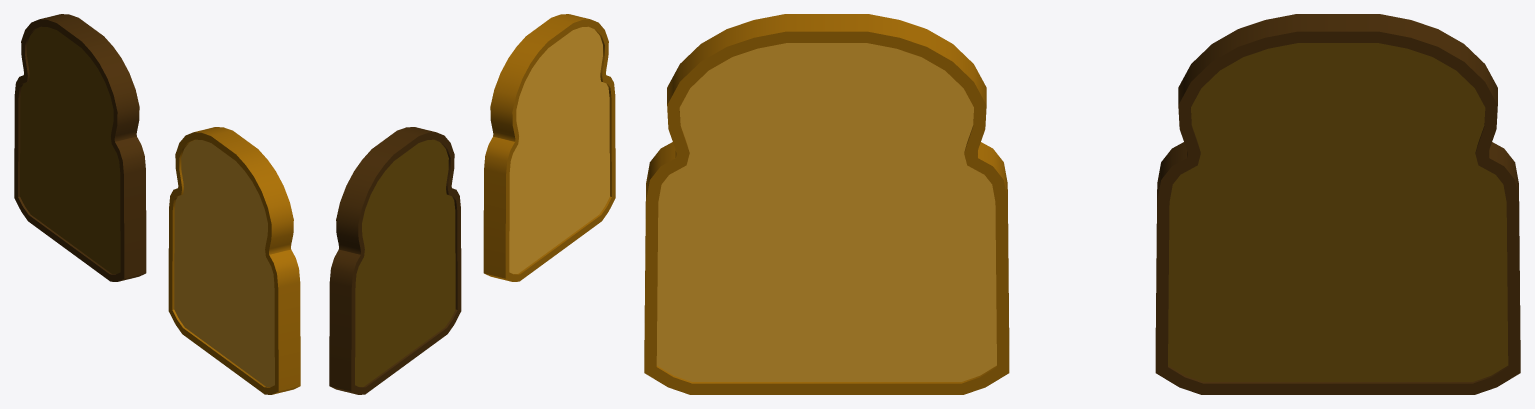
File: Bread.fbx
3 views of the same model, side by side, from view 1: azimuth 30°, elevation 25°; view 2: azimuth 150°, elevation 25°; view 3: azimuth 270°, elevation 25° (orthographic). The views are drawn at different scales.
Parts seen in each view (by area): view 1: Cube.012, Cube.013; view 2: Cube.013, Cube.012; view 3: Cube.012, Cube.013.
Part boxes in pixels (x1,y1,x2,y2): Cube.012: (168, 127, 300, 394); Cube.013: (14, 14, 146, 281); Cube.013: (329, 127, 461, 394); Cube.012: (483, 14, 615, 281); Cube.012: (644, 14, 1009, 394); Cube.013: (1155, 14, 1520, 394).
Size of the model in its own units: 5.03 by 47.77 by 104.
